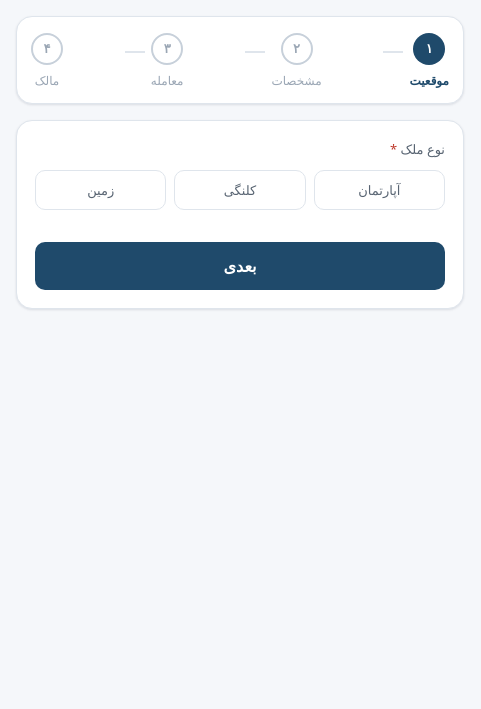
AddFileScreen wizard › shows error when Next clicked without region
The width and height of the screenshot is (481, 709).
Select a type
Click the button "آپارتمان": (379, 190) [314, 170, 445, 210]
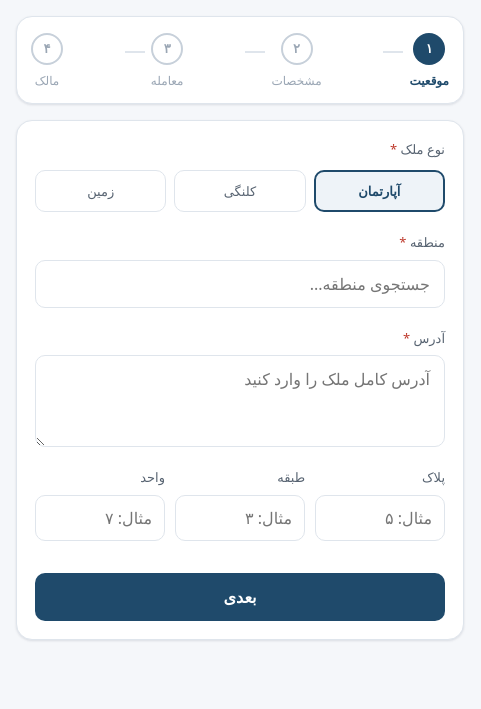
Try to proceed without region
Click the button "بعدی": (240, 596) [35, 572, 445, 620]
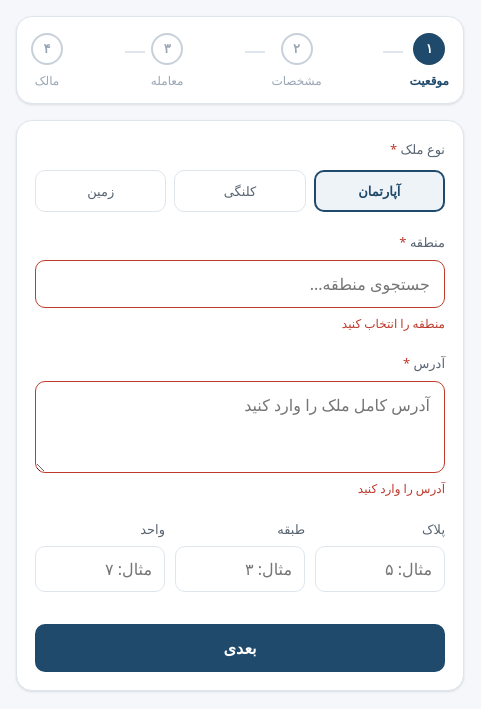
expect the text "منطقه را انتخاب کنید" is shown: met, box [342, 315, 445, 332]
